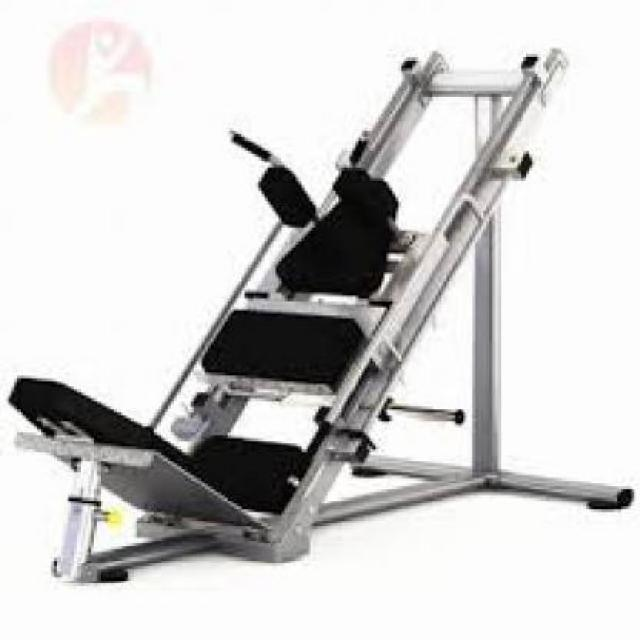leg press: (6, 49, 632, 583)
